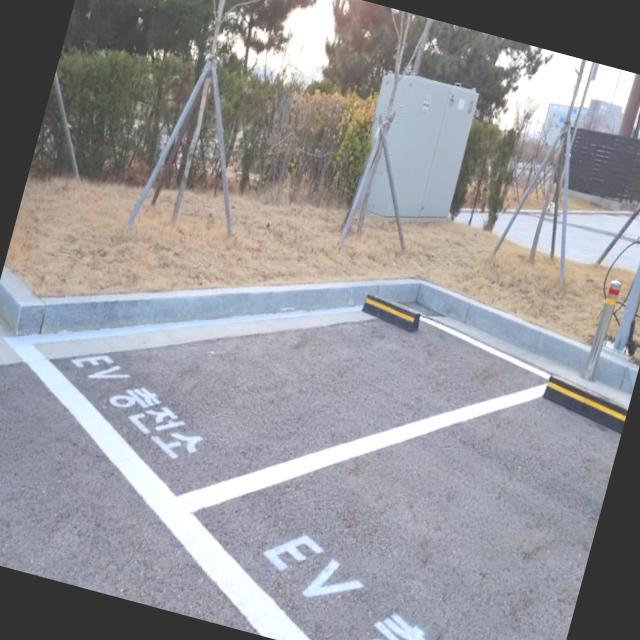Vacant: (0, 208, 557, 613)
